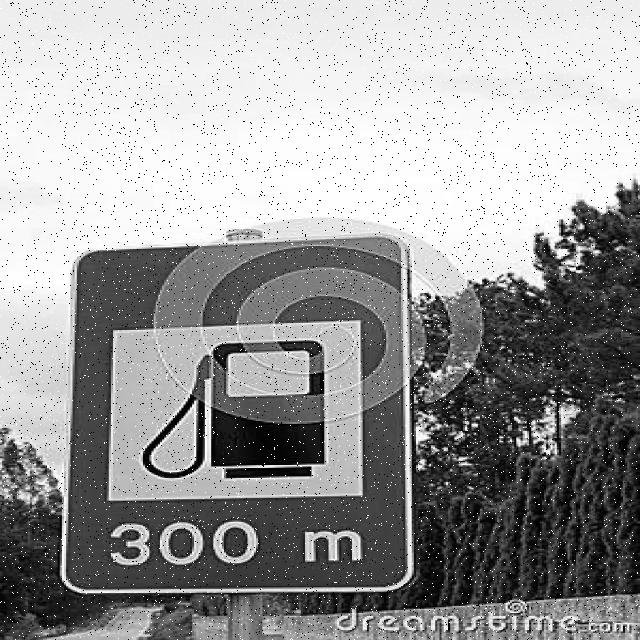petrol_station: (102, 326, 365, 500)
